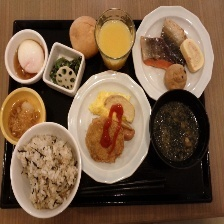rice: (16, 137, 78, 210)
